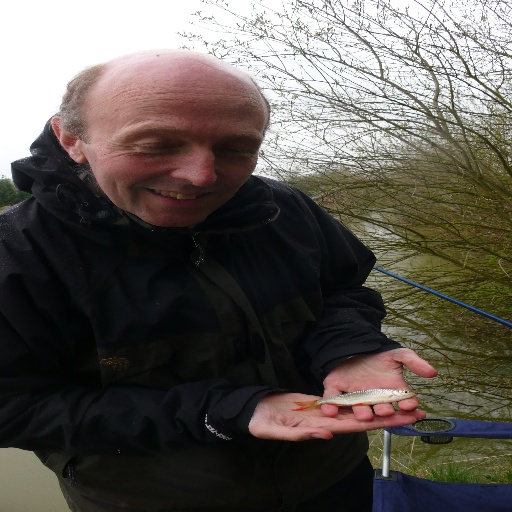hand: (243, 391, 429, 440), (315, 344, 440, 411)
